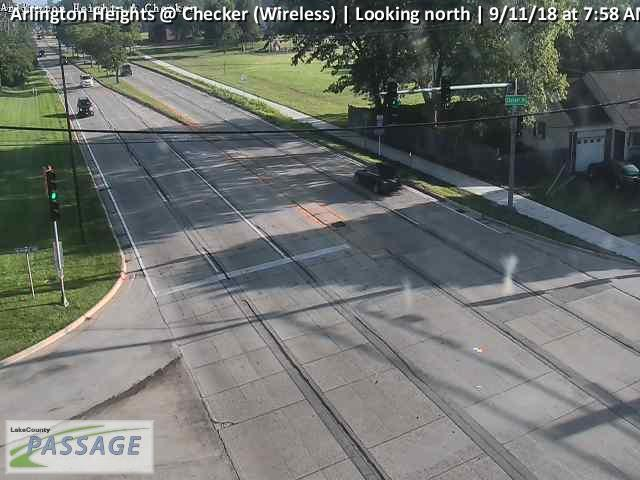Sedan: (587, 160, 639, 193), (354, 163, 400, 194), (77, 98, 95, 116), (80, 74, 93, 88), (120, 64, 134, 76)
